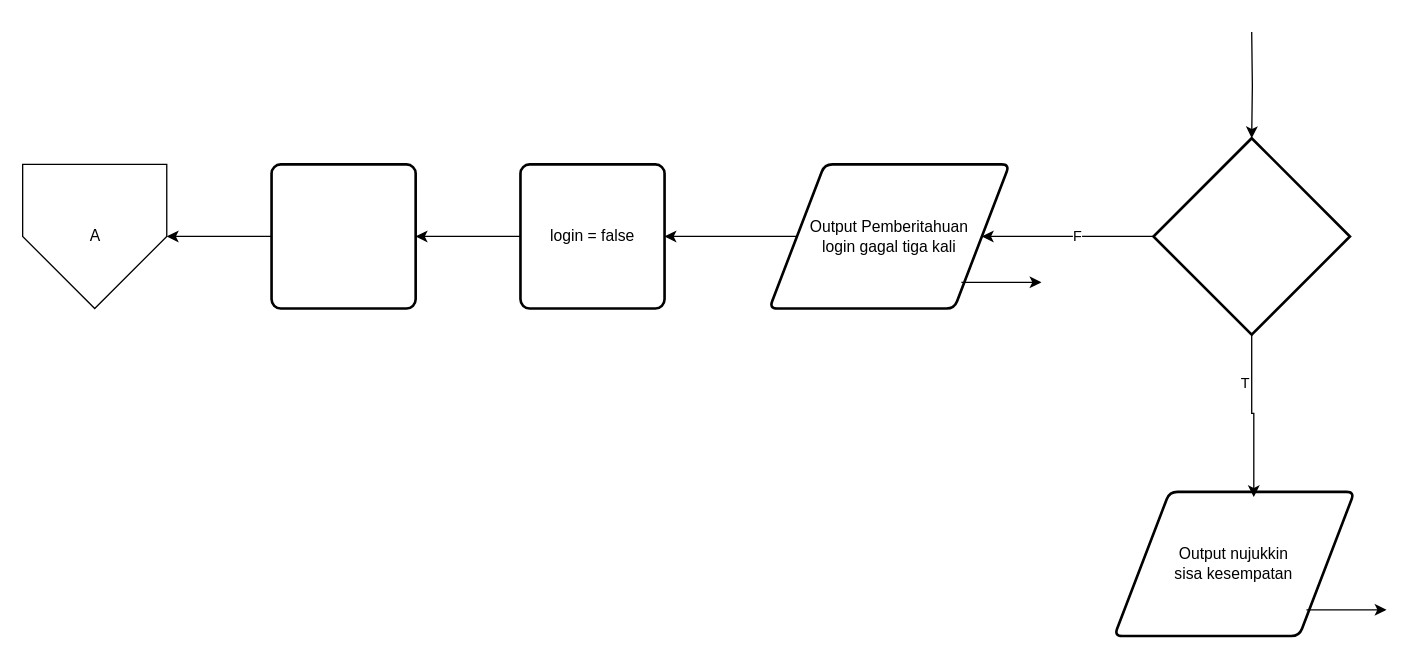
The diagram is 1421 pixels wide and 660 high, and some of its shapes have lost their labels. The shapes that lost their labels are listed below. From the top down, each one's centre as x and y in pixels, then its label:
(x=343, y=235): Break
(x=1251, y=235): if kesempatan > 0
